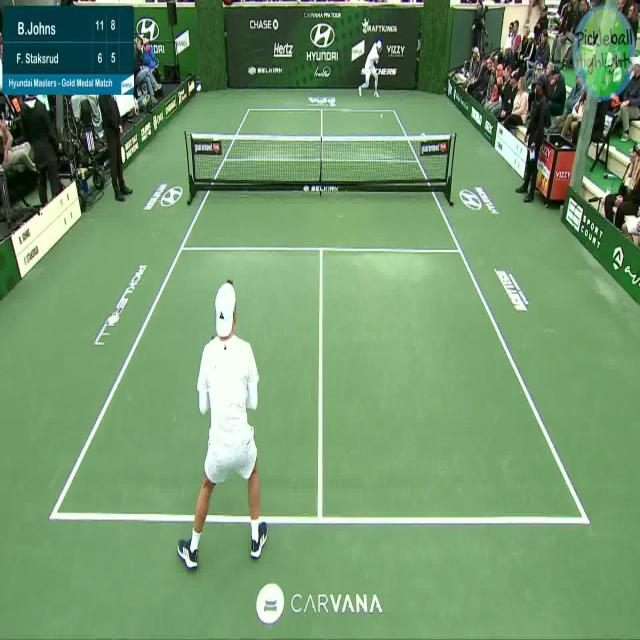ball: (378, 103, 388, 128)
